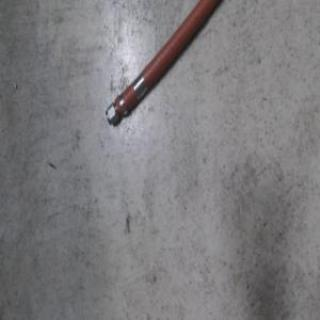Hosetrack_idkeyframe: (103, 0, 222, 127)
